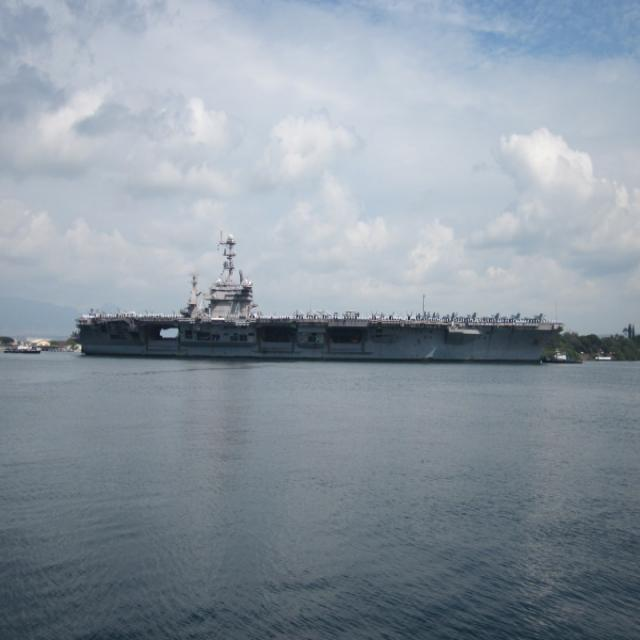Portanaves: (72, 230, 566, 367)
